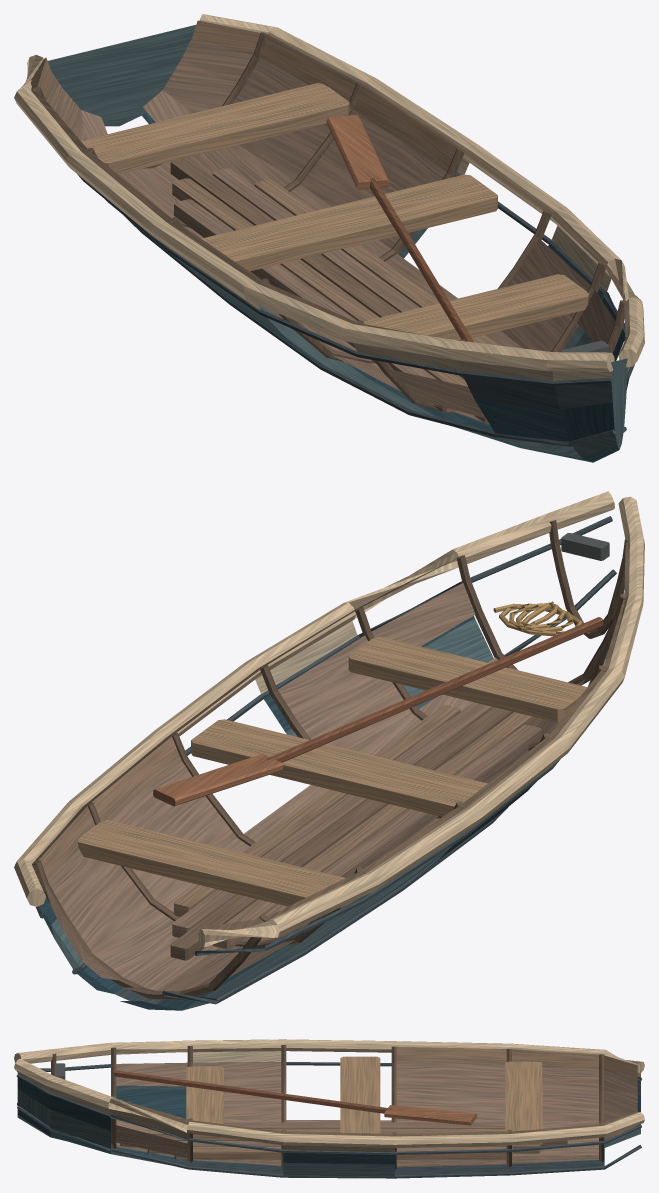
Rendered from fishing-boat.glb.
The picture shows the model from 3 angles, top to bottom: view 1: azimuth 30°, elevation 25°; view 2: azimuth 150°, elevation 25°; view 3: azimuth 270°, elevation 25°; orthographic projection. The views are drawn at different scales.
Visible parts, largest first — view 1: Bilge boards, frames, thwarts, rub rail and rowing gear, Lapstrake hull, white sheer and curved mahogany gunwales; view 2: Bilge boards, frames, thwarts, rub rail and rowing gear, Lapstrake hull, white sheer and curved mahogany gunwales, Tied mooring rope and galvanized cleats; view 3: Bilge boards, frames, thwarts, rub rail and rowing gear, Lapstrake hull, white sheer and curved mahogany gunwales.
Boxes of the visible parts, x1=… form: Bilge boards, frames, thwarts, rub rail and rowing gear: x1=30, y1=20, x2=627, y2=423; Lapstrake hull, white sheer and curved mahogany gunwales: x1=14, y1=14, x2=644, y2=462; Bilge boards, frames, thwarts, rub rail and rowing gear: x1=32, y1=520, x2=627, y2=1000; Lapstrake hull, white sheer and curved mahogany gunwales: x1=14, y1=491, x2=644, y2=1010; Tied mooring rope and galvanized cleats: x1=493, y1=533, x2=609, y2=636; Bilge boards, frames, thwarts, rub rail and rowing gear: x1=51, y1=1045, x2=637, y2=1169; Lapstrake hull, white sheer and curved mahogany gunwales: x1=14, y1=1039, x2=644, y2=1178.
Bounding box in the file's own units: 1.96 × 1.01 × 5.2.
2 materials, 1 textured.
